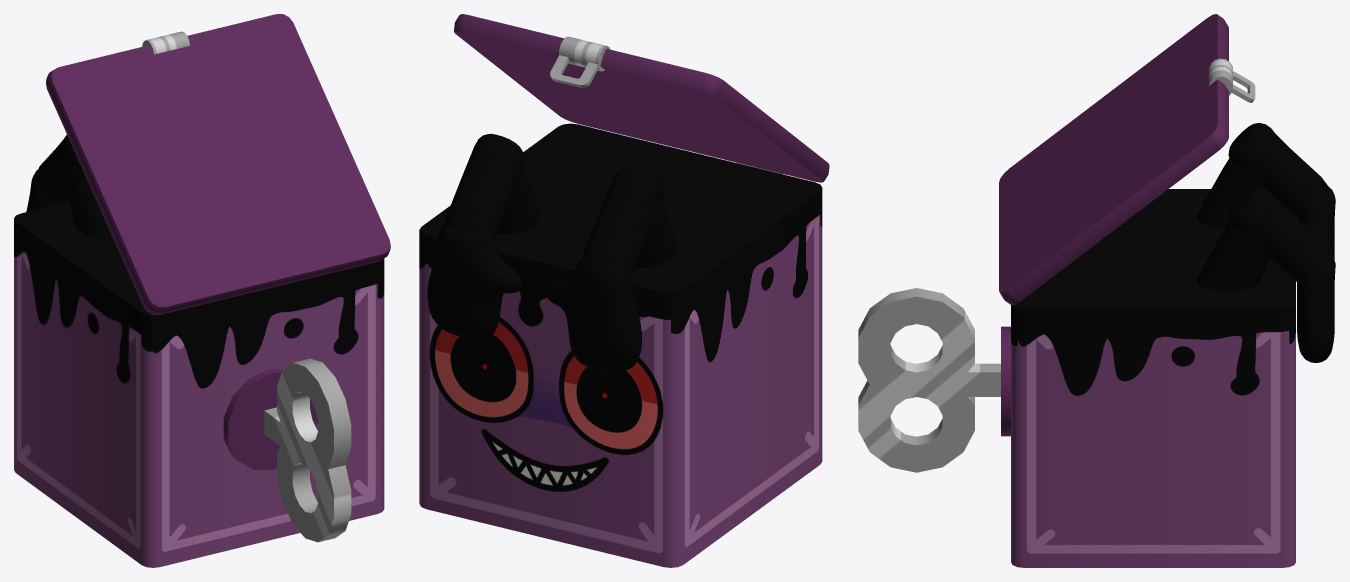
The model's file is Twisted Boxten.glb.
The picture shows the model from 3 angles, left to right: view 1: azimuth 30°, elevation 25°; view 2: azimuth 150°, elevation 25°; view 3: azimuth 270°, elevation 25°; orthographic projection. The views are drawn at different scales.
Parts seen in each view (by area): view 1: Twisted Boxten; view 2: Twisted Boxten; view 3: Twisted Boxten.
Boxes of the visible parts, box(x1,y1,x2,y2) form: Twisted Boxten: box(14, 14, 390, 567); Twisted Boxten: box(419, 14, 829, 567); Twisted Boxten: box(858, 14, 1335, 567).
Size of the model in its own units: 2.68 by 4.51 by 4.43.
1 material, 1 textured.
